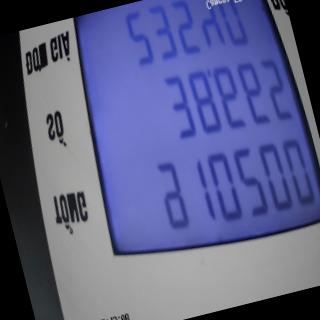screen: (51, 0, 320, 287)
